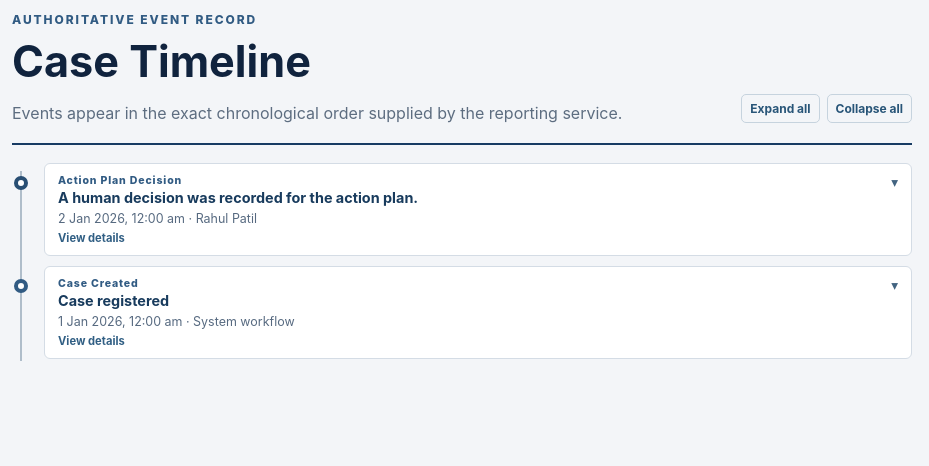
Test: Case Timeline › renders compact events collapsed by default and expands persisted safe details
Expected: the text "A human decision was recorded for the action plan." is shown, [58,189,418,206]
Expected: the list item that starts with "Case Created" shows "Case registered", [45,267,911,358]
Click the button that starts with "Action Plan Decision".
click(120, 180)  # box [45,164,911,255]
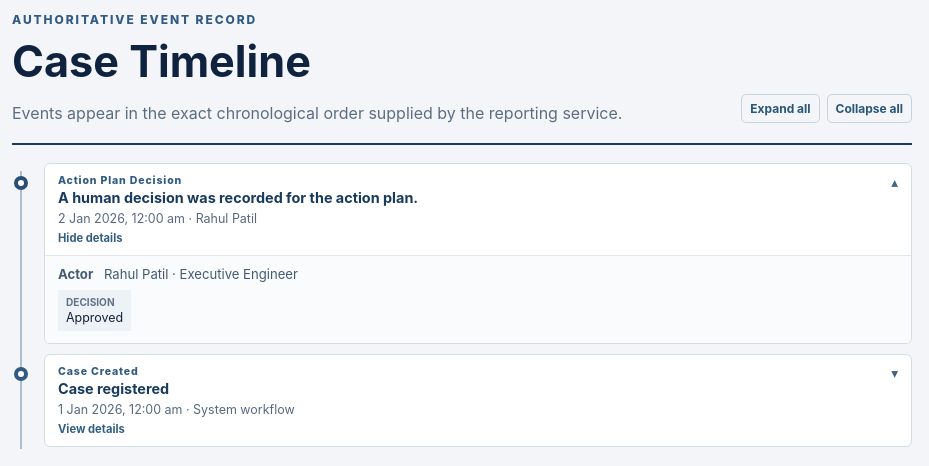
Now the button that starts with "Action Plan Decision" is expanded
Now the text "Approved" is shown, box [66,310,123,325]
Now the text "Actor" shows "Rahul Patil · Executive Engineer", box [58,266,298,282]
Click the button that starts with "Action Plan Decision".
click(120, 180)  # box [45,164,911,255]
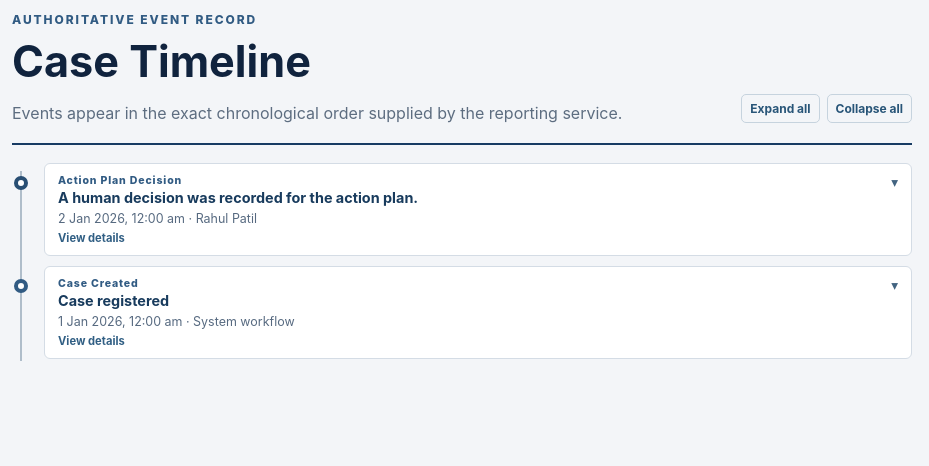
Now the button that starts with "Action Plan Decision" is collapsed, box [45,164,911,255]
Now the text "Approved" is gone
